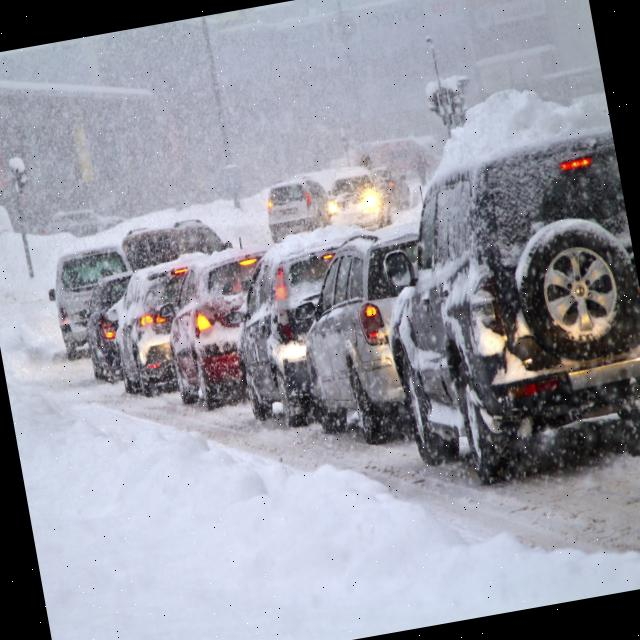car: (363, 135, 640, 480), (283, 215, 449, 450), (221, 229, 376, 436), (154, 250, 278, 409), (102, 253, 218, 402), (44, 242, 143, 364), (119, 203, 230, 281), (78, 270, 138, 382), (258, 172, 333, 242), (322, 164, 394, 234), (42, 203, 122, 245), (372, 161, 410, 205)
